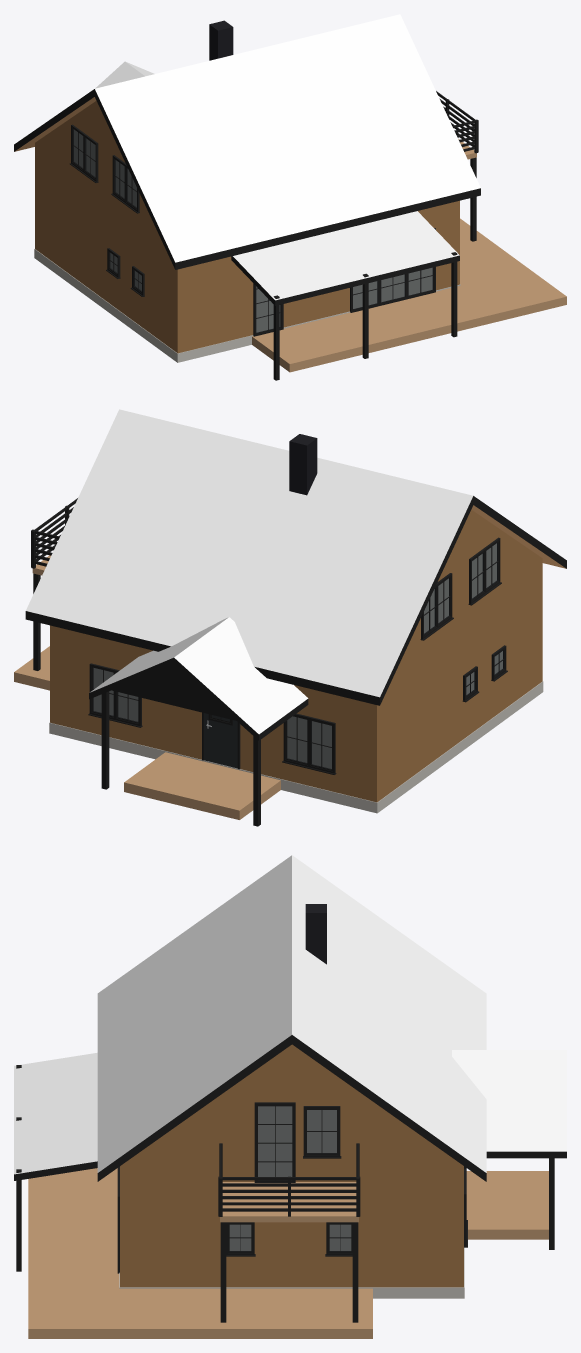
Rendered from hiireviu161_c0_p0_m1.glb.
The picture shows the model from 3 angles, top to bottom: view 1: azimuth 30°, elevation 25°; view 2: azimuth 150°, elevation 25°; view 3: azimuth 270°, elevation 25°; orthographic projection. The views are drawn at different scales.
Visible parts, largest first — view 1: roof, wall, deck, fascia, glass, curtain, frame, plinth, metal, soffit; view 2: roof, wall, fascia, deck, frame, glass, curtain, plinth, metal, door, soffit; view 3: roof, wall, deck, fascia, glass, curtain, frame, plinth, metal.
Part boxes in pixels (x1=…): roof: x1=95, y1=14, x2=480, y2=300; wall: x1=35, y1=101, x2=459, y2=353; deck: x1=252, y1=138, x2=566, y2=372; fascia: x1=14, y1=89, x2=480, y2=380; glass: x1=73, y1=129, x2=432, y2=332; curtain: x1=74, y1=129, x2=432, y2=332; frame: x1=69, y1=124, x2=435, y2=336; plinth: x1=34, y1=249, x2=460, y2=362; metal: x1=209, y1=20, x2=233, y2=60; soffit: x1=14, y1=97, x2=96, y2=151; roof: x1=26, y1=409, x2=472, y2=734; wall: x1=50, y1=510, x2=542, y2=802; fascia: x1=25, y1=496, x2=566, y2=826; deck: x1=14, y1=555, x2=280, y2=819; frame: x1=88, y1=537, x2=507, y2=774; glass: x1=93, y1=543, x2=503, y2=769; curtain: x1=93, y1=543, x2=502, y2=768; plinth: x1=49, y1=681, x2=543, y2=813; metal: x1=289, y1=434, x2=317, y2=495; door: x1=204, y1=713, x2=237, y2=768; soffit: x1=471, y1=505, x2=566, y2=568; roof: x1=14, y1=855, x2=566, y2=1174; wall: x1=120, y1=1044, x2=463, y2=1287; deck: x1=28, y1=1168, x2=548, y2=1338; fascia: x1=14, y1=1035, x2=566, y2=1322; glass: x1=229, y1=1106, x2=351, y2=1251; curtain: x1=229, y1=1106, x2=351, y2=1250; frame: x1=117, y1=1102, x2=467, y2=1273; plinth: x1=119, y1=1247, x2=464, y2=1298; metal: x1=305, y1=904, x2=326, y2=964.
Bounding box in the file's own units: 12.37 × 8.04 × 13.55.
Materials: 12 (5 with a texture image).
